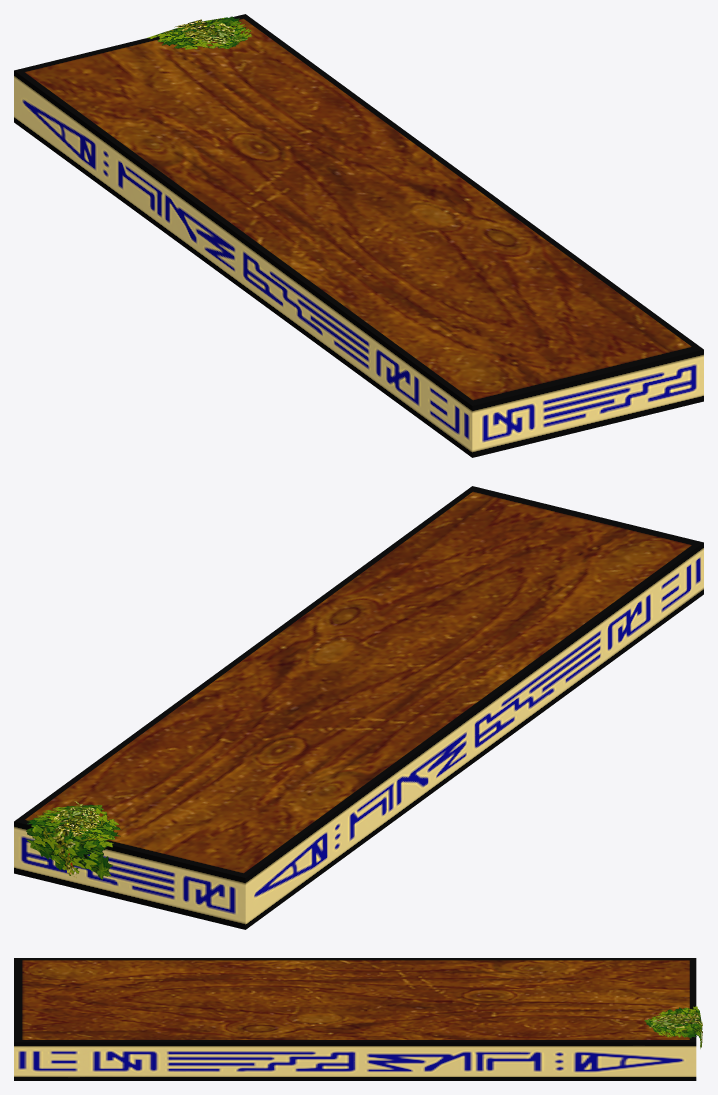
File: jungle_thinpath1.gltf
3 views of the same model, one above another, from view 1: azimuth 30°, elevation 25°; view 2: azimuth 150°, elevation 25°; view 3: azimuth 270°, elevation 25° (orthographic). The views are drawn at different scales.
Parts seen in each view (by area): view 1: jungle_thinpath1_glb; view 2: jungle_thinpath1_glb; view 3: jungle_thinpath1_glb.
Part boxes in pixels (x1,y1,x2,y2): jungle_thinpath1_glb: (14, 14, 703, 457); jungle_thinpath1_glb: (14, 486, 703, 929); jungle_thinpath1_glb: (14, 958, 702, 1080).
Size of what is drawn, in the model's own units: 1.17 by 0.2723 by 4.04.
Materials: 2 (2 with a texture image).
